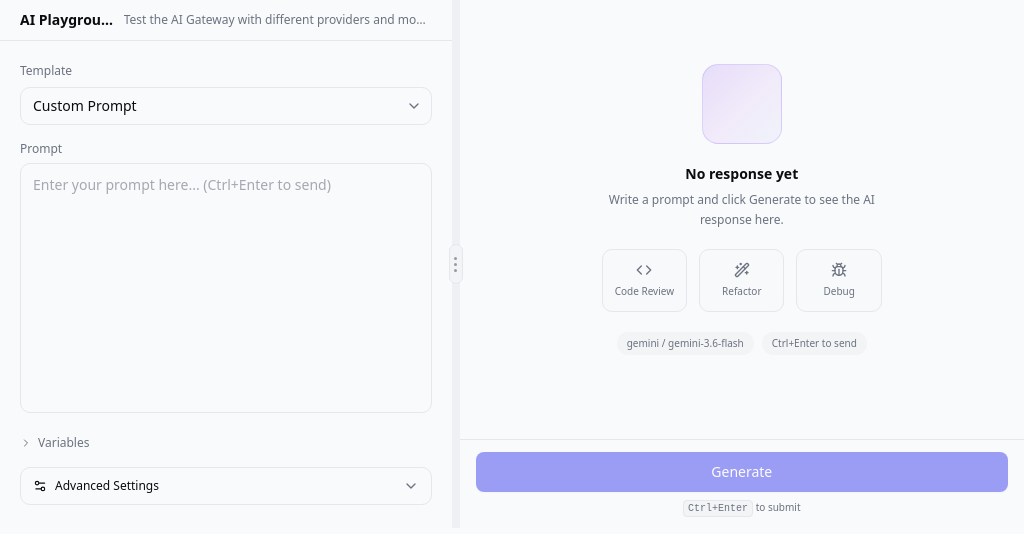
Playground Flow - 10 Steps › Step 2: Enter a Prompt › should show character count when typing
Use fireEvent to change the value
Type "Hello" into the text box with placeholder "Enter your prompt here... (Ctrl+Enter to send)". click: (226, 288)
box: [20,163,432,412]
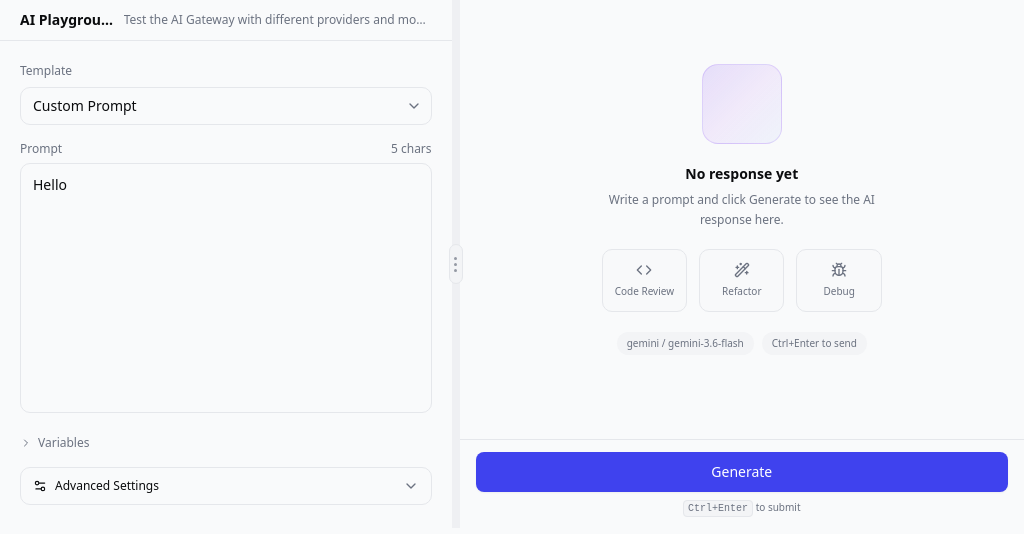
Result: the text "5 chars" is shown at [391,141,432,157]
